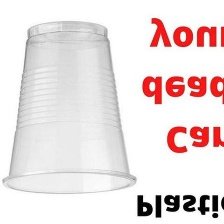glass: (0, 20, 141, 198)
